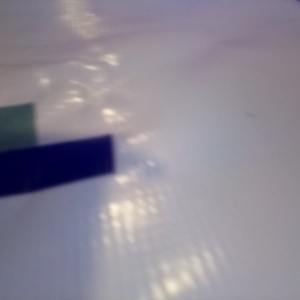top_right: (1, 103, 38, 191)
